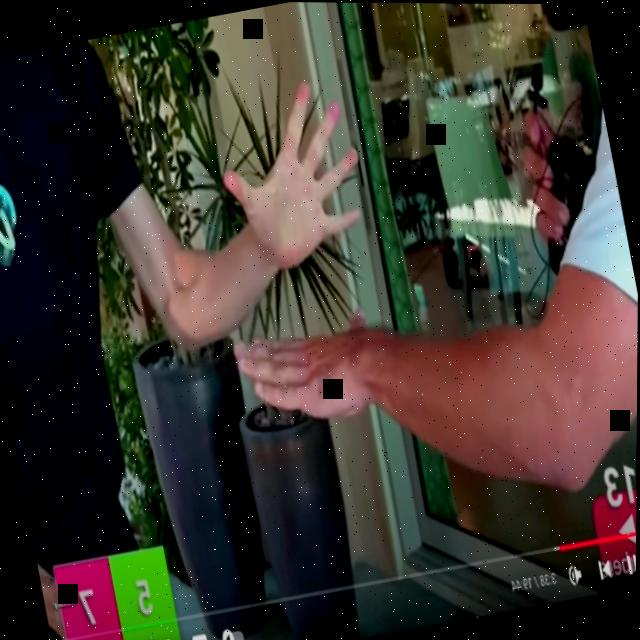Paper: (207, 76, 378, 279), (228, 305, 388, 439)
